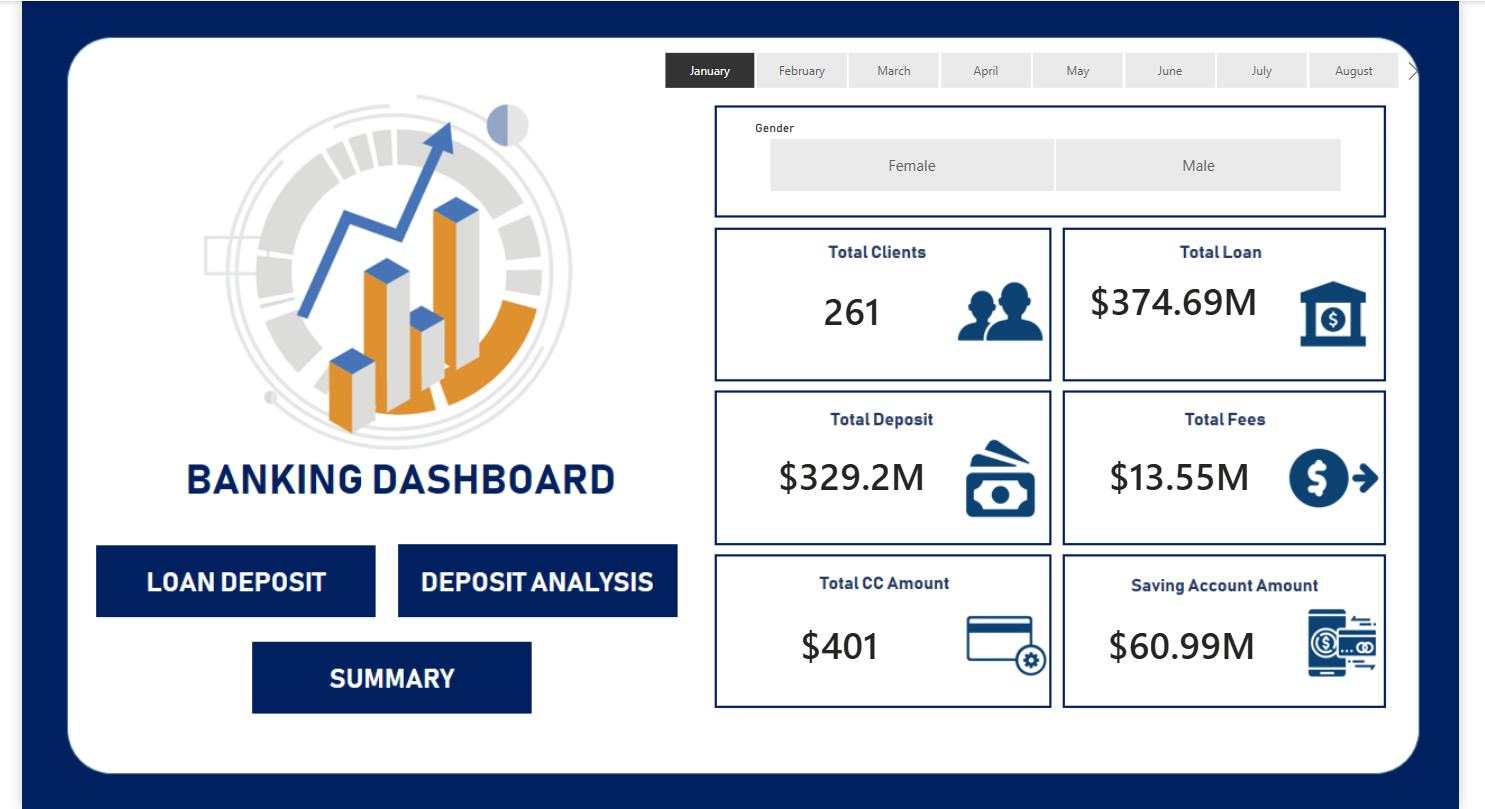

The page's visual inventory and layout, read from the dashboard file:
{"tool":"powerbi","page":{"name":"Home","canvas":[1280,720],"ordinal":0},"visuals":[{"type":"slicer","fields":{"Values":["Gender.Gender"]},"box":[640.3,100.8,558.2,75],"z":0},{"type":"card","fields":{"Values":["DAX Measures.Total Clients"]},"box":[640.3,218.1,198.2,114.9],"z":1000},{"type":"card","fields":{"Values":["DAX Measures.Total Loan"]},"box":[933.4,208.7,184.1,114.9],"z":2000},{"type":"card","fields":{"Values":["DAX Measures.Total Deposit"]},"box":[640.3,374.1,198.2,98.5],"z":3000},{"type":"card","fields":{"Values":["DAX Measures.Total CC Amount"]},"box":[628.5,533.6,198.2,79.7],"z":4000},{"type":"card","fields":{"Values":["DAX Measures.Total Fees"]},"box":[938.1,372.9,185.3,99.7],"z":5000},{"type":"card","fields":{"Values":["DAX Measures.Savings Account"]},"box":[933.4,533.6,198.2,79.7],"z":6000},{"type":"actionButton","box":[62.7,481.4,253.4,66.4],"z":7000},{"type":"actionButton","box":[335.4,485.5,250.9,63.3],"z":8000},{"type":"actionButton","box":[205.2,573.4,255.6,61],"z":9000},{"type":"slicer","fields":{"Values":["Clients - Banking.Joined Bank.Variation.Date Hierarchy.Month"]},"box":[546.4,38.7,703.6,45.7],"z":10000}]}

Visuals, with their boxes on the page's 1280x720 design canvas (x1, y1, x2, y2). These are canvas units, not pixel positions in the 1485x809 screenshot, which may show the page scaled, cropped or inside an application window:
slicer - Gender.Gender: [left=640, top=101, right=1198, bottom=176]
card - DAX Measures.Total Clients: [left=640, top=218, right=838, bottom=333]
card - DAX Measures.Total Loan: [left=933, top=209, right=1118, bottom=324]
card - DAX Measures.Total Deposit: [left=640, top=374, right=838, bottom=473]
card - DAX Measures.Total CC Amount: [left=628, top=534, right=827, bottom=613]
card - DAX Measures.Total Fees: [left=938, top=373, right=1123, bottom=473]
card - DAX Measures.Savings Account: [left=933, top=534, right=1132, bottom=613]
actionButton: [left=63, top=481, right=316, bottom=548]
actionButton: [left=335, top=486, right=586, bottom=549]
actionButton: [left=205, top=573, right=461, bottom=634]
slicer - Clients - Banking.Joined Bank.Variation.Date Hierarchy.Month: [left=546, top=39, right=1250, bottom=84]
